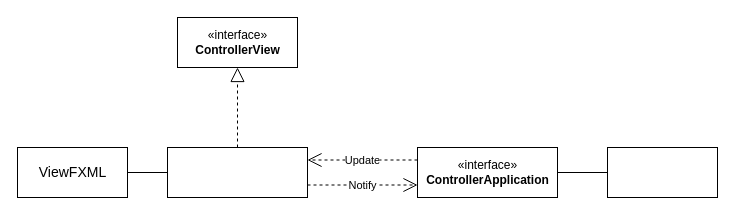
The diagram is 735 pixels wide and 217 high, and some of its shapes have lost their labels. The shapes that lost their labels are listed below. From the top down, each one's centre as x and y in pixels, then its label:
(x=237, y=172): «interface» SpecificControllerView
(x=662, y=172): «interface» Environment
